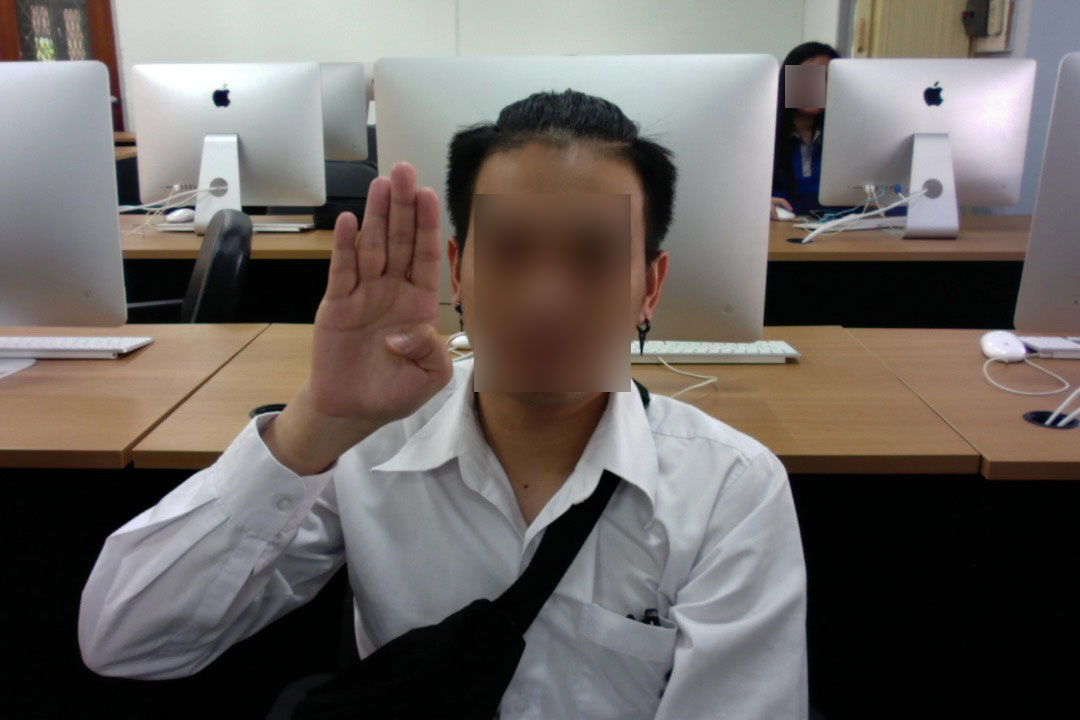bor: (304, 153, 459, 441)
